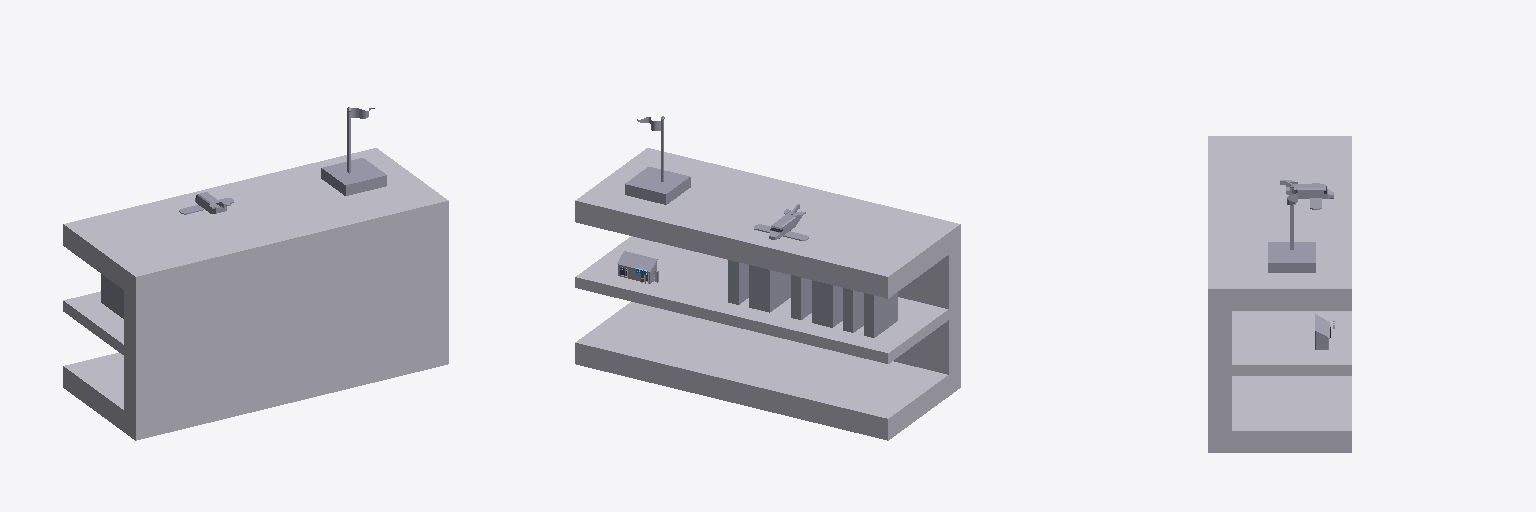
File: decorativeShelf.obj
3 views of the same model, side by side, from view 1: azimuth 30°, elevation 25°; view 2: azimuth 150°, elevation 25°; view 3: azimuth 270°, elevation 25° (orthographic).
Bounding box in the file's own units: 3 × 2.2 × 1.2.